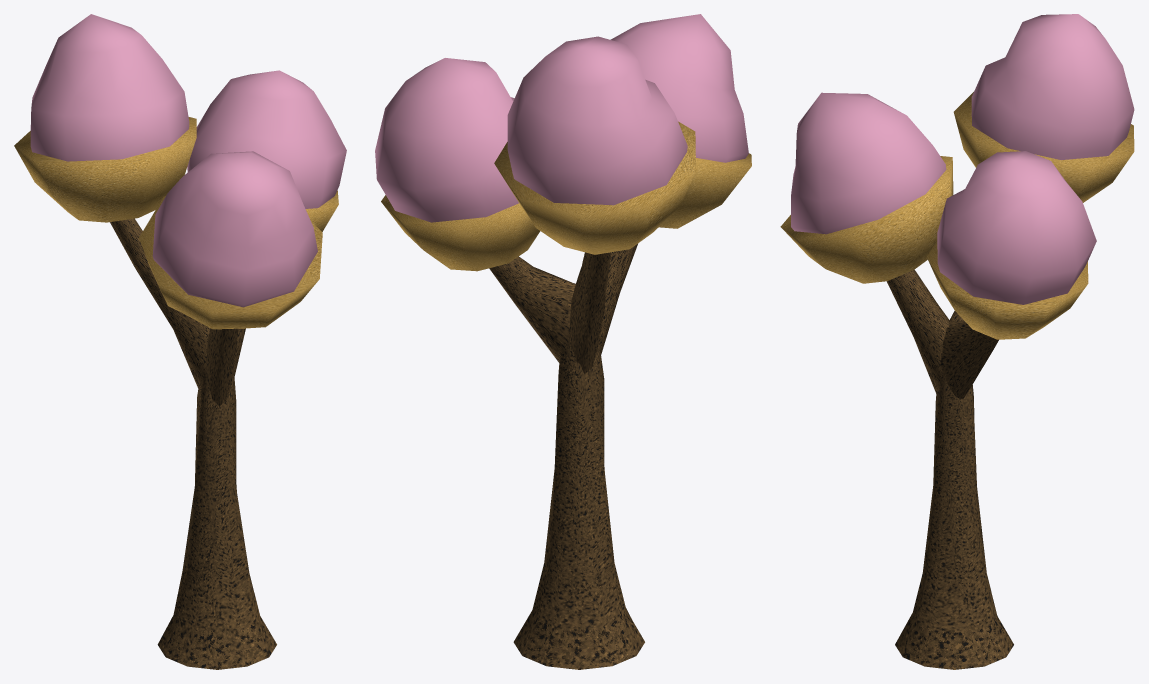
Rendered from tree4.obj.
3 renders of one model, left to right at view 1: azimuth 30°, elevation 25°; view 2: azimuth 150°, elevation 25°; view 3: azimuth 270°, elevation 25°, orthographic. The views are drawn at different scales.
Parts seen in each view (by area): view 1: Cone.004, Cylinder.001; view 2: Cone.004, Cylinder.001; view 3: Cone.004, Cylinder.001.
Part boxes in pixels (x1,y1,x2,y2): Cone.004: [14, 14, 346, 329]; Cylinder.001: [110, 218, 276, 669]; Cone.004: [375, 14, 751, 271]; Cylinder.001: [489, 244, 644, 669]; Cone.004: [780, 14, 1134, 339]; Cylinder.001: [887, 269, 1013, 669].
Size of the model in its own units: 1.66 by 3.28 by 1.75.
Materials: 3 (3 with a texture image).
